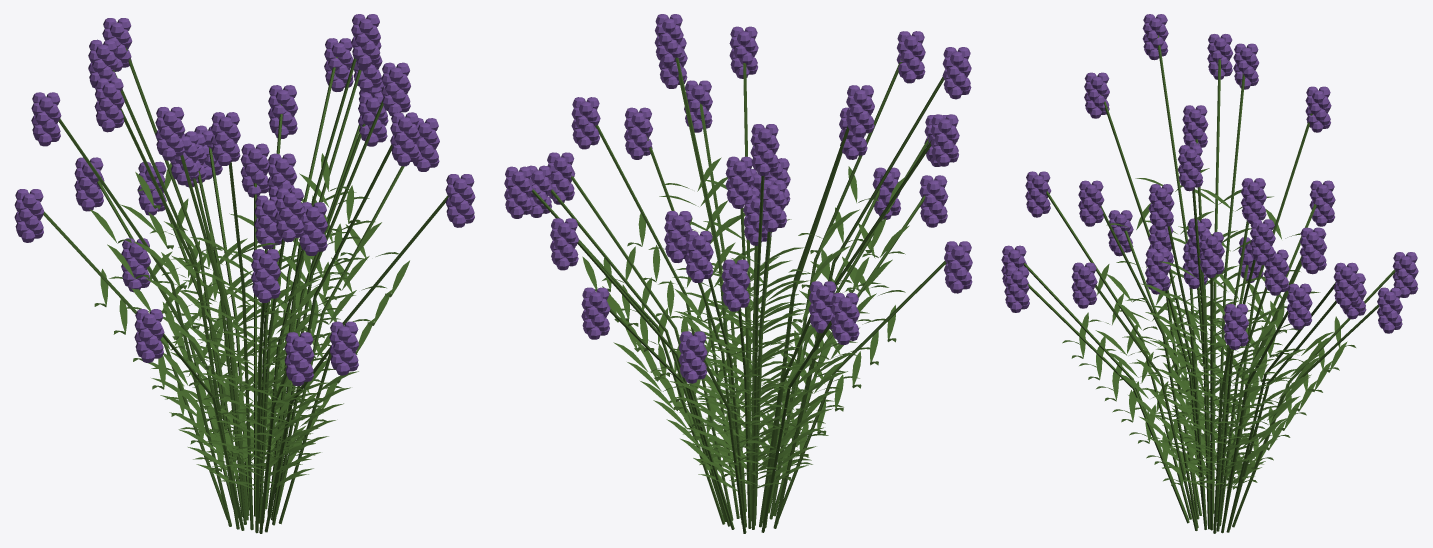
The model's file is lavanda_jardin.glb.
The picture shows the model from 3 angles, left to right: view 1: azimuth 30°, elevation 25°; view 2: azimuth 150°, elevation 25°; view 3: azimuth 270°, elevation 25°; orthographic projection. The views are drawn at different scales.
Visible parts, largest first — view 1: lavanda_jardin; view 2: lavanda_jardin; view 3: lavanda_jardin.
Boxes of the visible parts, x1=… form: lavanda_jardin: x1=14, y1=14, x2=475, y2=533; lavanda_jardin: x1=504, y1=14, x2=972, y2=533; lavanda_jardin: x1=1001, y1=14, x2=1418, y2=533.
Bounding box in the file's own units: 0.5594 × 0.6562 × 0.5718.
